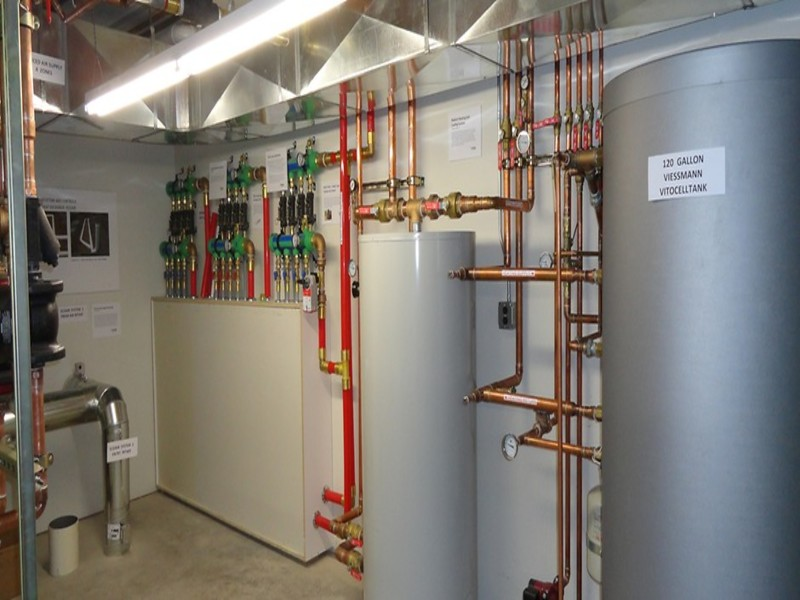valve: (527, 107, 563, 133), (579, 103, 592, 160), (495, 118, 508, 167), (416, 200, 461, 213), (348, 202, 388, 215), (568, 110, 575, 167)
